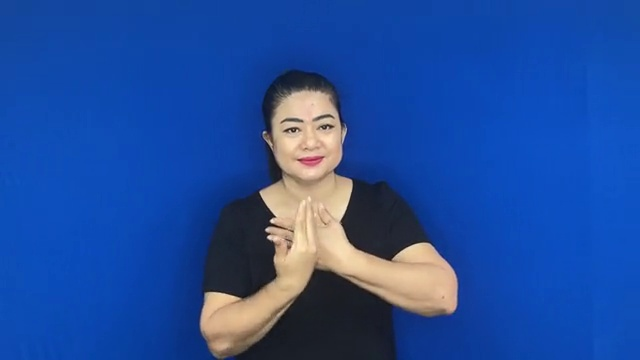bread: (259, 191, 359, 292)
